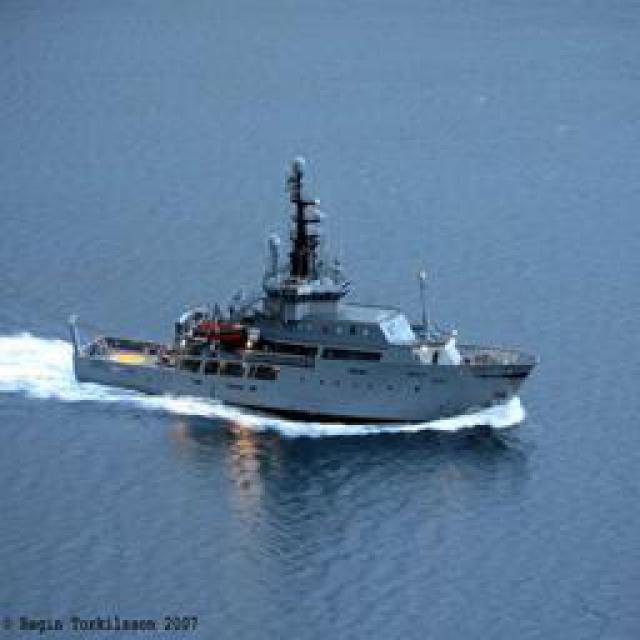Ship: (82, 148, 542, 433)
